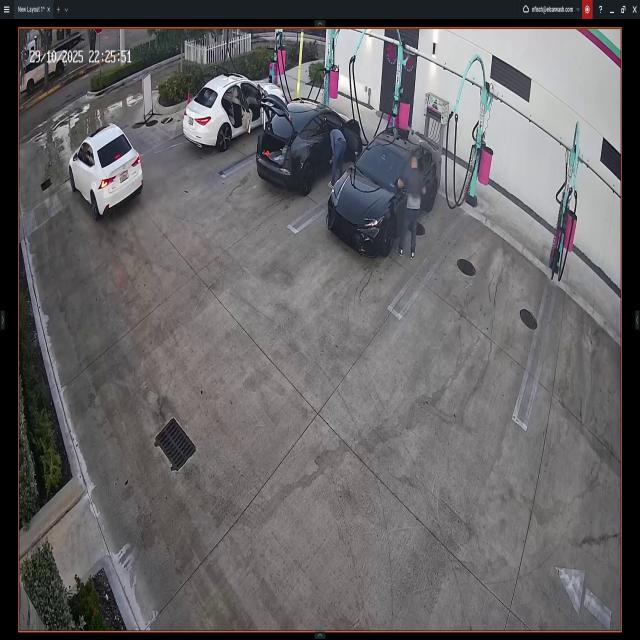Car: (324, 137, 443, 253), (258, 86, 364, 190), (184, 76, 286, 157), (69, 126, 144, 216)
